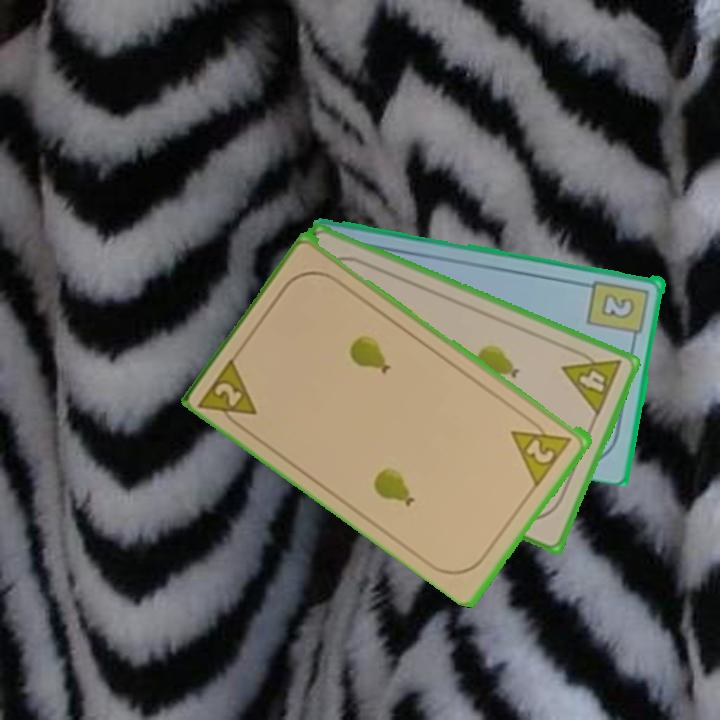2b: (584, 276, 652, 346)
2p: (196, 351, 261, 434), (508, 413, 575, 488)
4p: (558, 343, 625, 419)
